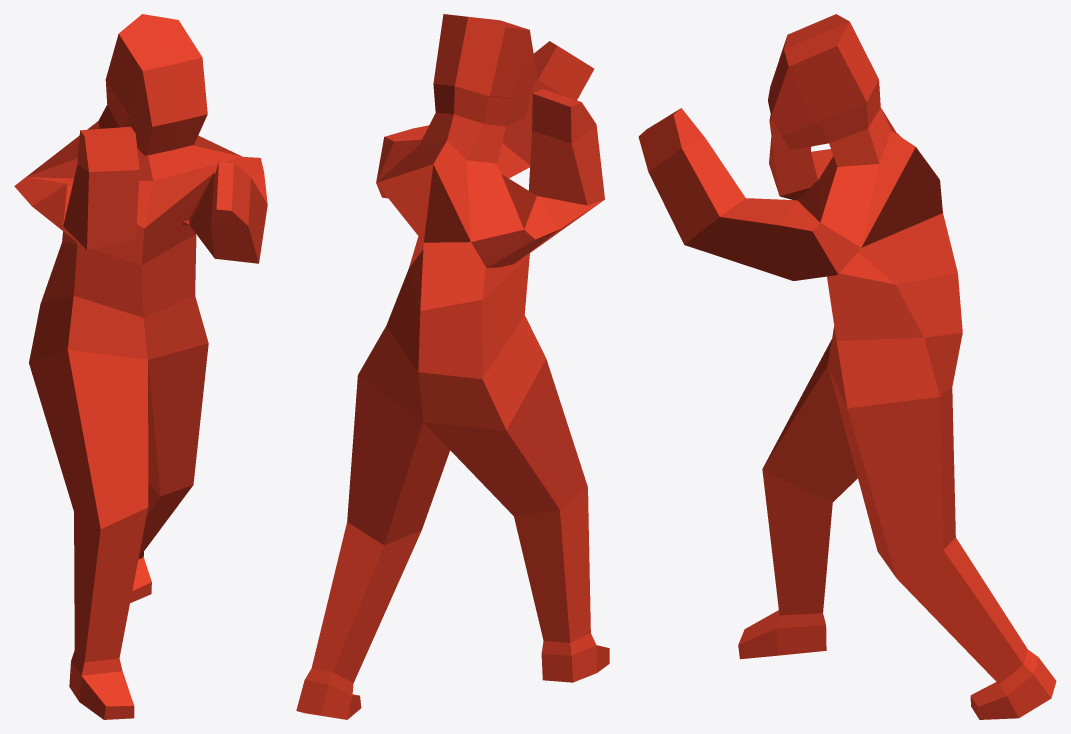
Rendered from Player_Left_Uppercut.fbx.
3 views of the same model, side by side, from view 1: azimuth 30°, elevation 25°; view 2: azimuth 150°, elevation 25°; view 3: azimuth 270°, elevation 25° (orthographic). The views are drawn at different scales.
Parts seen in each view (by area): view 1: Person; view 2: Person; view 3: Person.
Part boxes in pixels (x1,y1,x2,y2): Person: [14, 14, 267, 719]; Person: [296, 14, 609, 719]; Person: [638, 14, 1056, 719].
Size of the model in its own units: 268 by 833 by 472.
